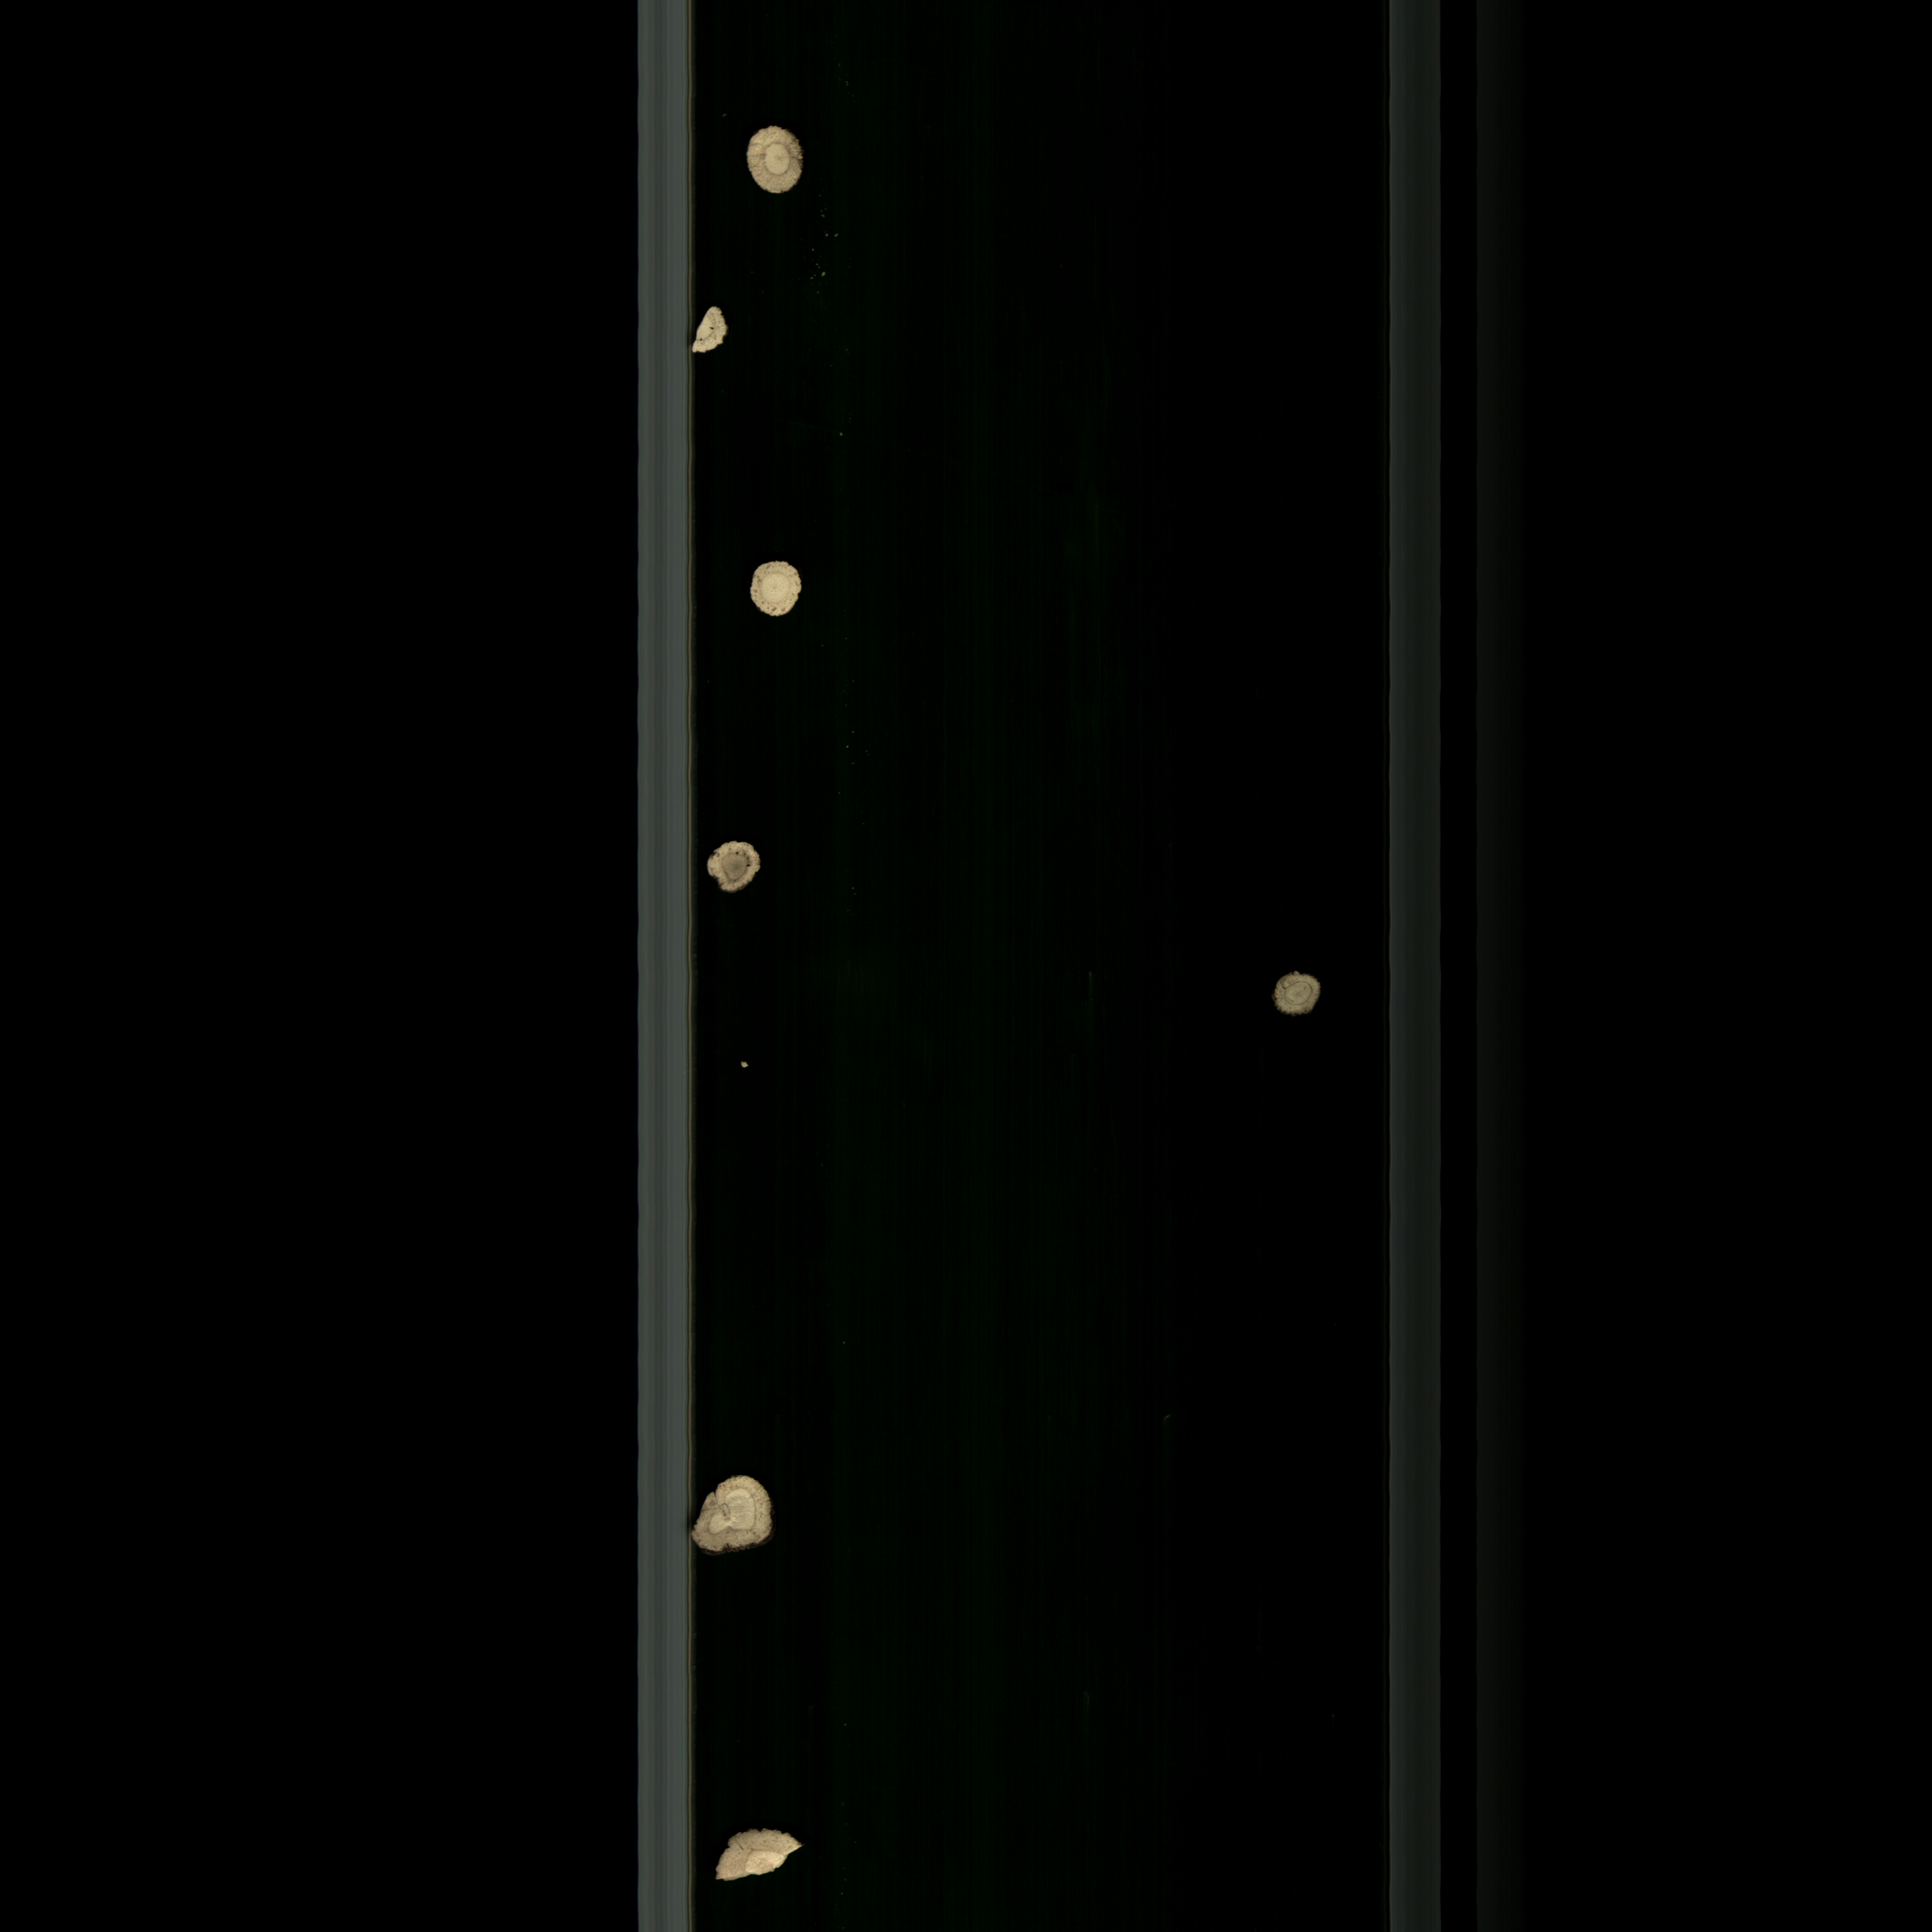debris: (704, 1810, 809, 1891)
distortion: (694, 1468, 791, 1560)
dreg: (692, 297, 731, 364), (732, 1053, 759, 1077)
moldy: (701, 832, 778, 911), (1269, 962, 1329, 1024)
